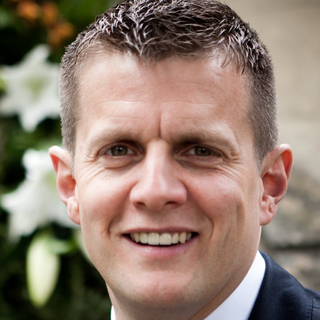eye: (175, 139, 226, 164), (96, 139, 143, 164)
